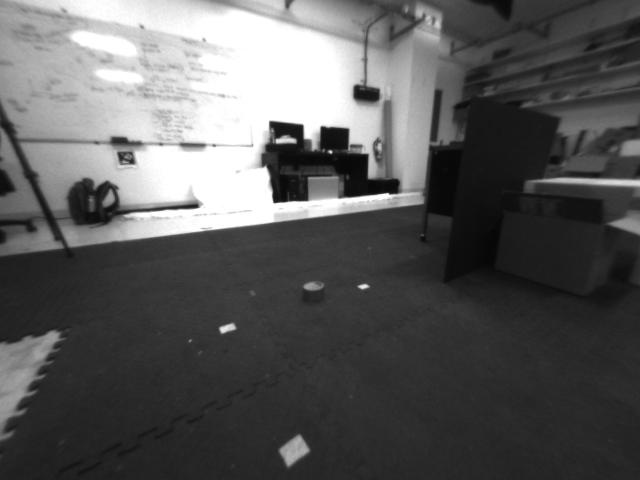dogtoy: (290, 269, 340, 318)
